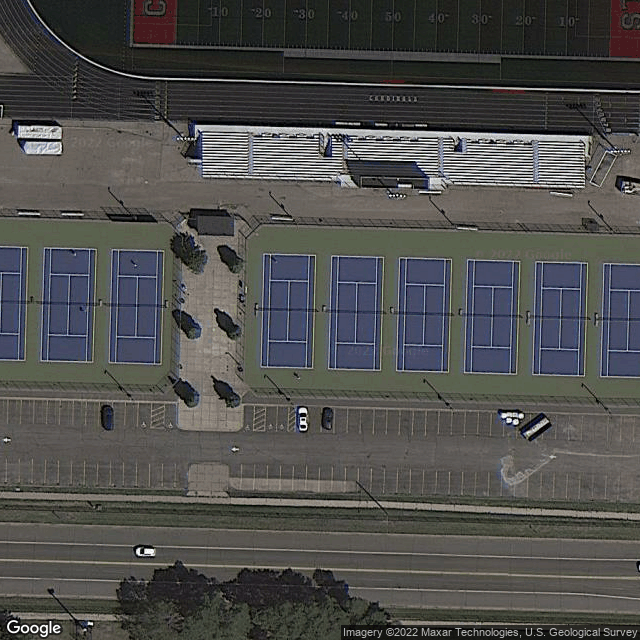Court: (462, 257, 522, 377), (530, 258, 590, 378), (38, 245, 97, 367), (394, 256, 454, 375), (258, 252, 317, 371), (327, 254, 386, 372), (107, 248, 165, 367), (598, 262, 640, 380), (0, 244, 30, 363)
